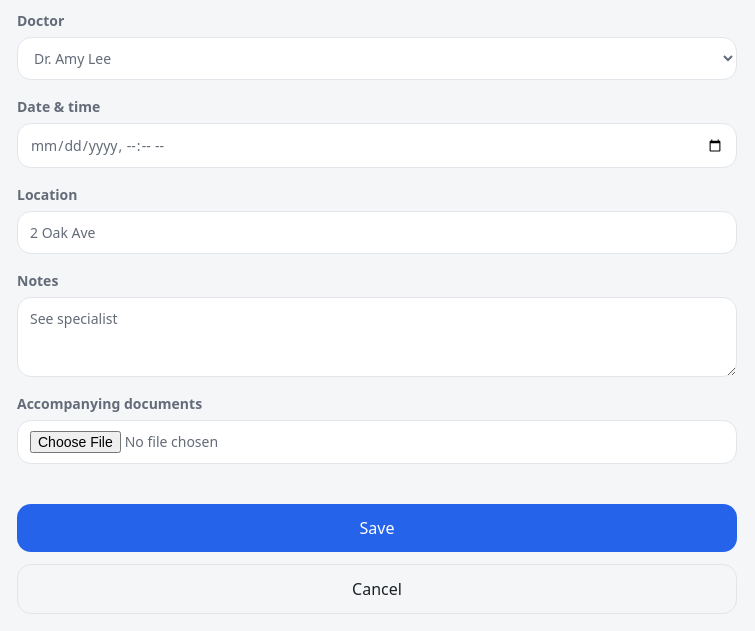
AppointmentFormScreen › still updates the location if a different doctor is picked after resolving a task
Select "Dr. Jane Smith" in the dropdown labelled "Doctor" at x=377, y=58, box [17,37,737,80]
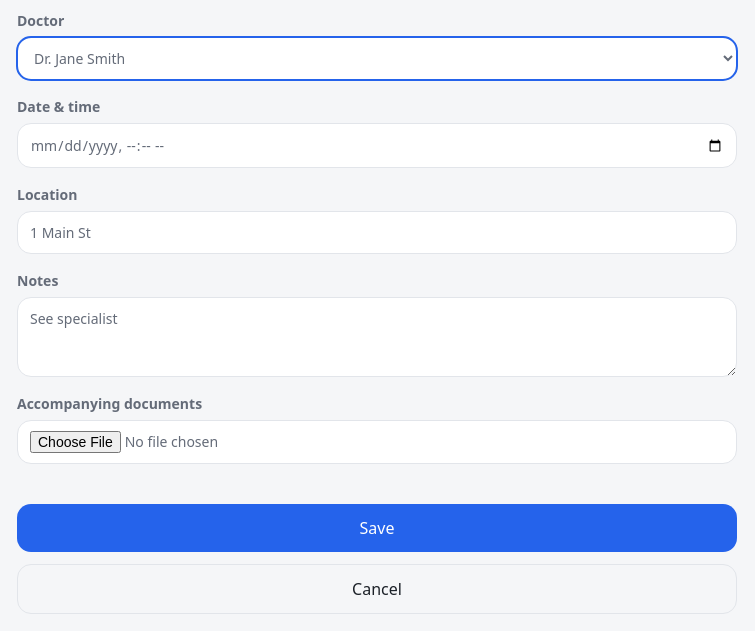
Now the field labelled "Location" holds "1 Main St", box [17,211,737,254]
